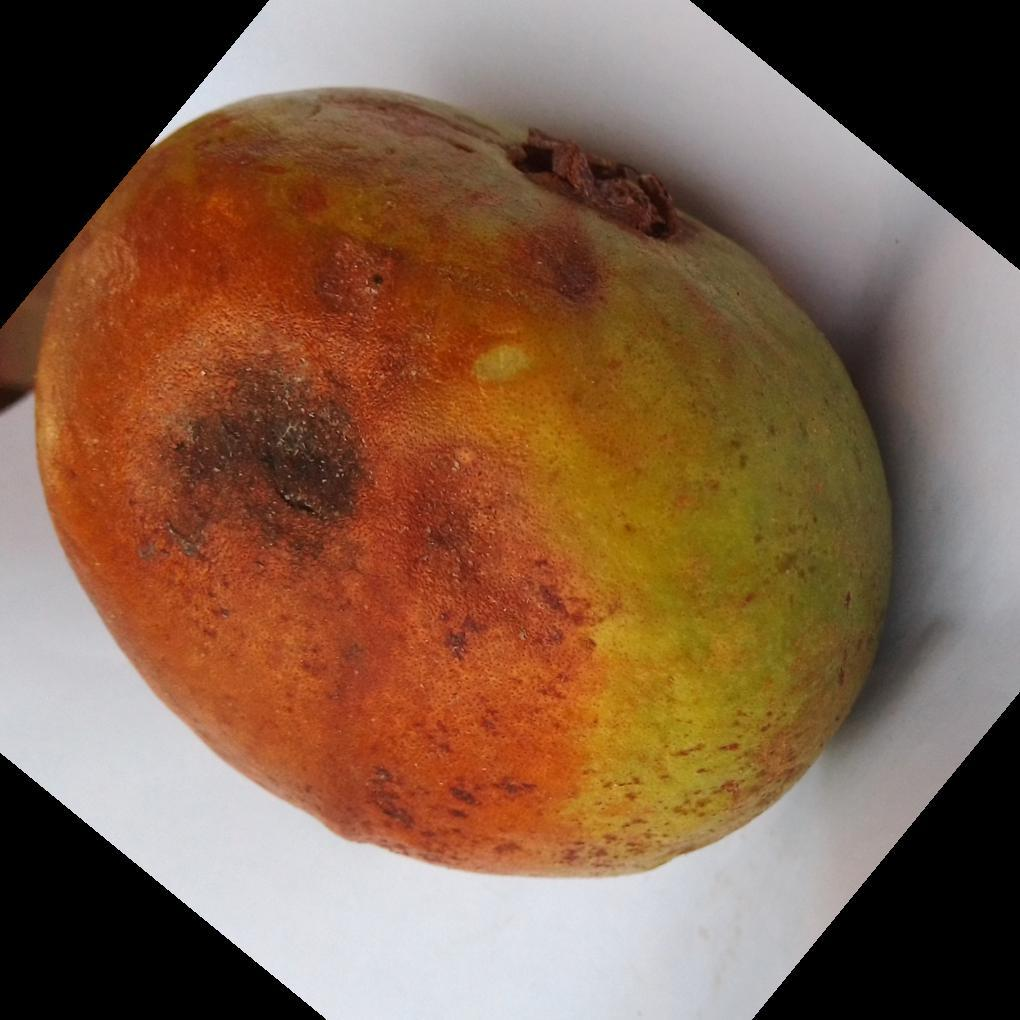FreshOrange: (30, 87, 894, 884)
